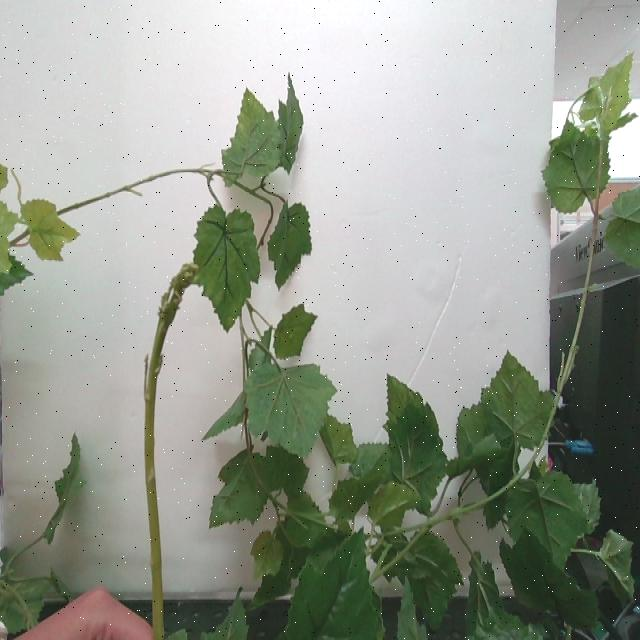aspargus: (143, 266, 191, 640)
